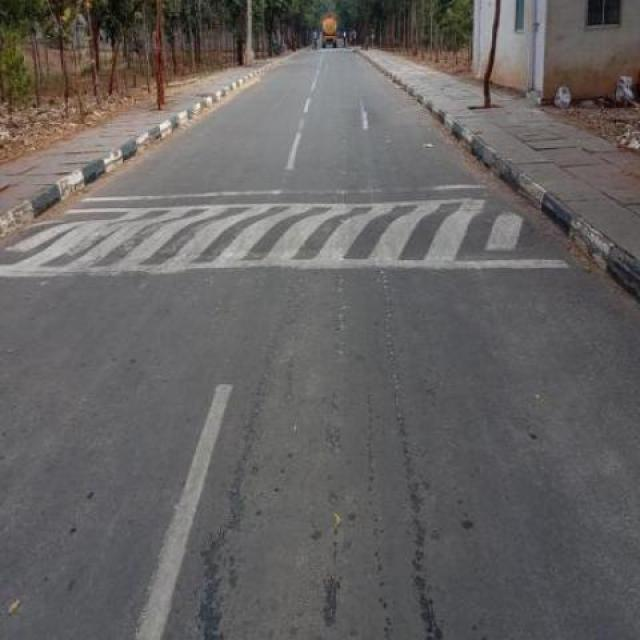Speed Bump: (1, 200, 574, 274)
